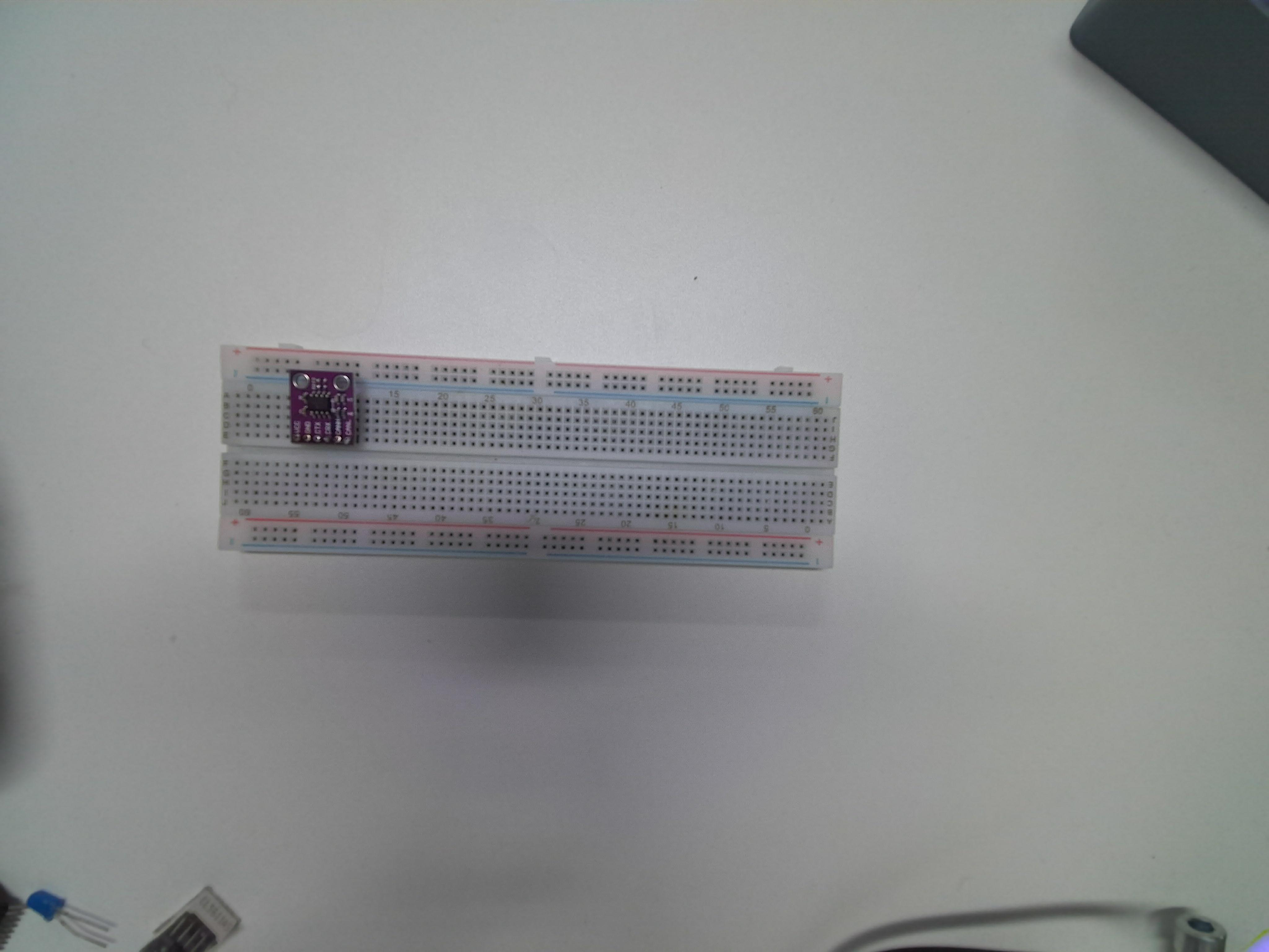base: (219, 343, 846, 576)
blue-led: (22, 888, 67, 922)
purple-board: (287, 369, 363, 448)
